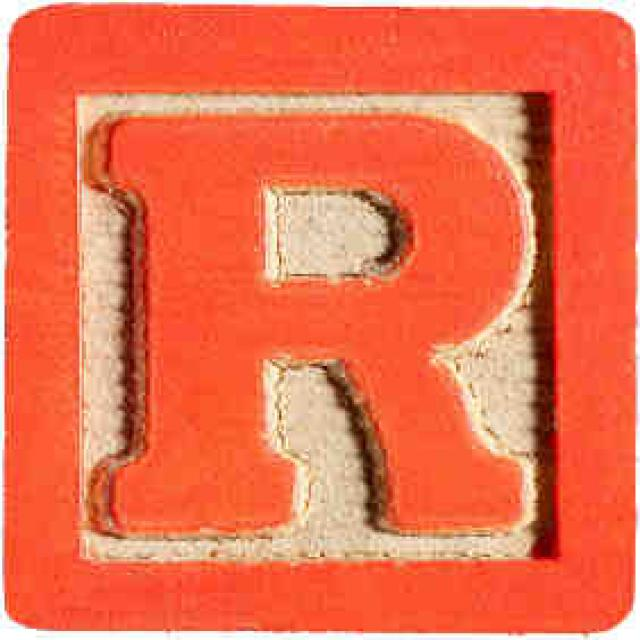R: (87, 110, 540, 544)
